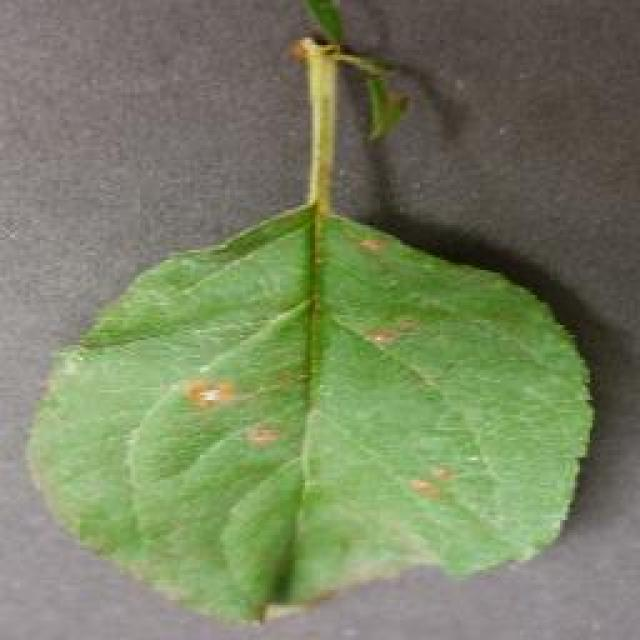apple healthy: (22, 27, 598, 625)
